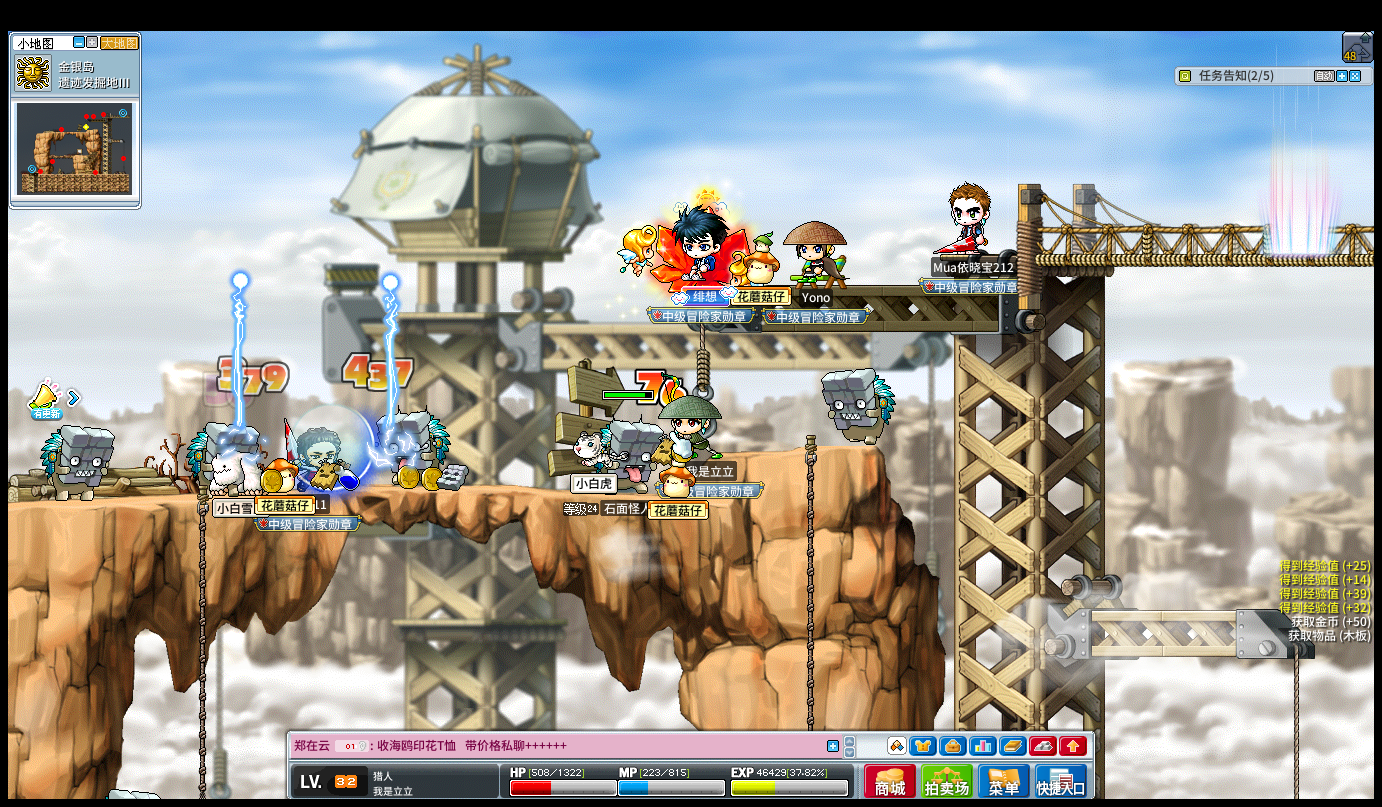floor: (30, 483, 748, 500), (227, 484, 750, 502), (723, 444, 877, 460), (725, 442, 880, 457)
monster: (820, 367, 896, 446), (376, 409, 449, 490), (39, 425, 114, 502), (601, 419, 658, 492), (186, 422, 218, 497)
rope: (193, 480, 207, 807), (802, 433, 817, 728), (1288, 653, 1303, 790)
